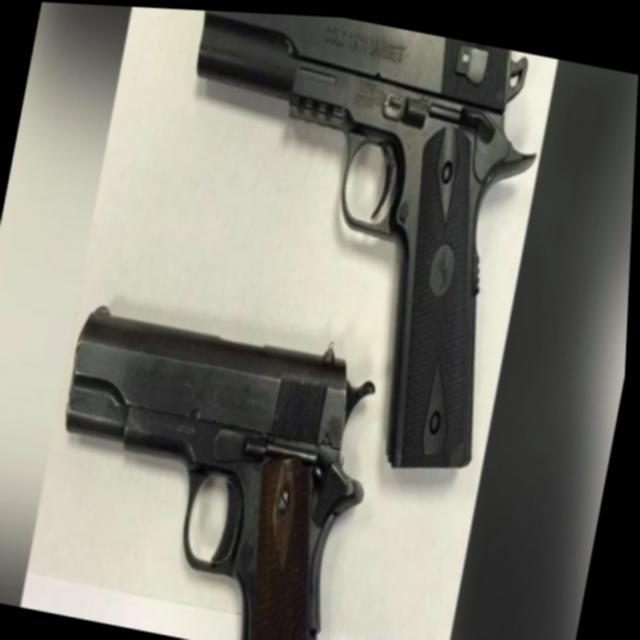weapon: (130, 6, 556, 481), (32, 291, 395, 640)
